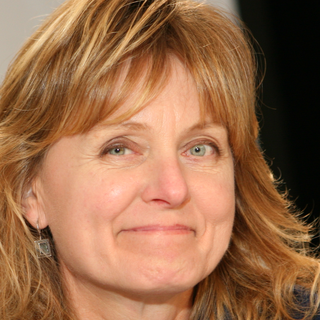eye: (181, 136, 226, 162), (96, 139, 144, 163)
